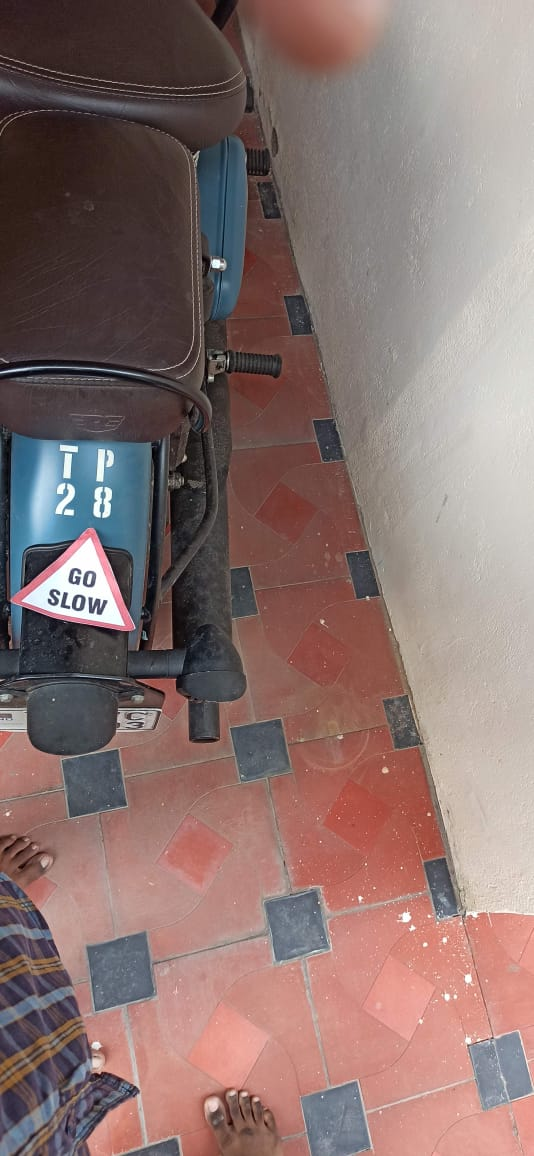GO SLOW: (21, 522, 172, 644)
